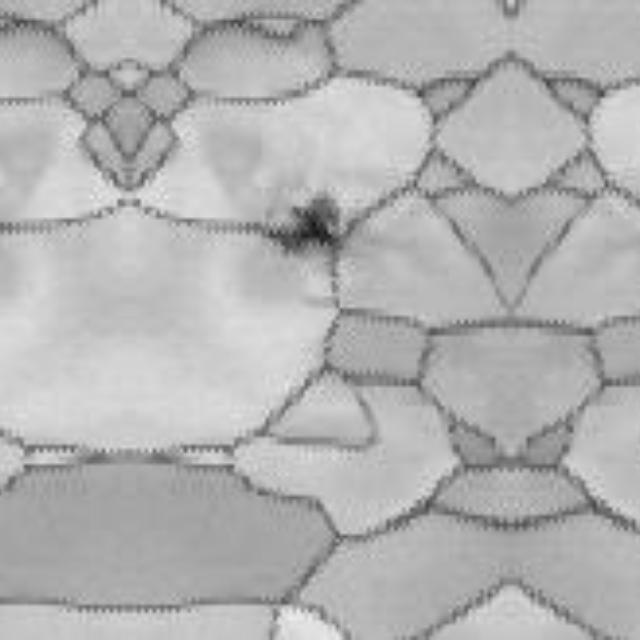good_void: (262, 192, 354, 256)
